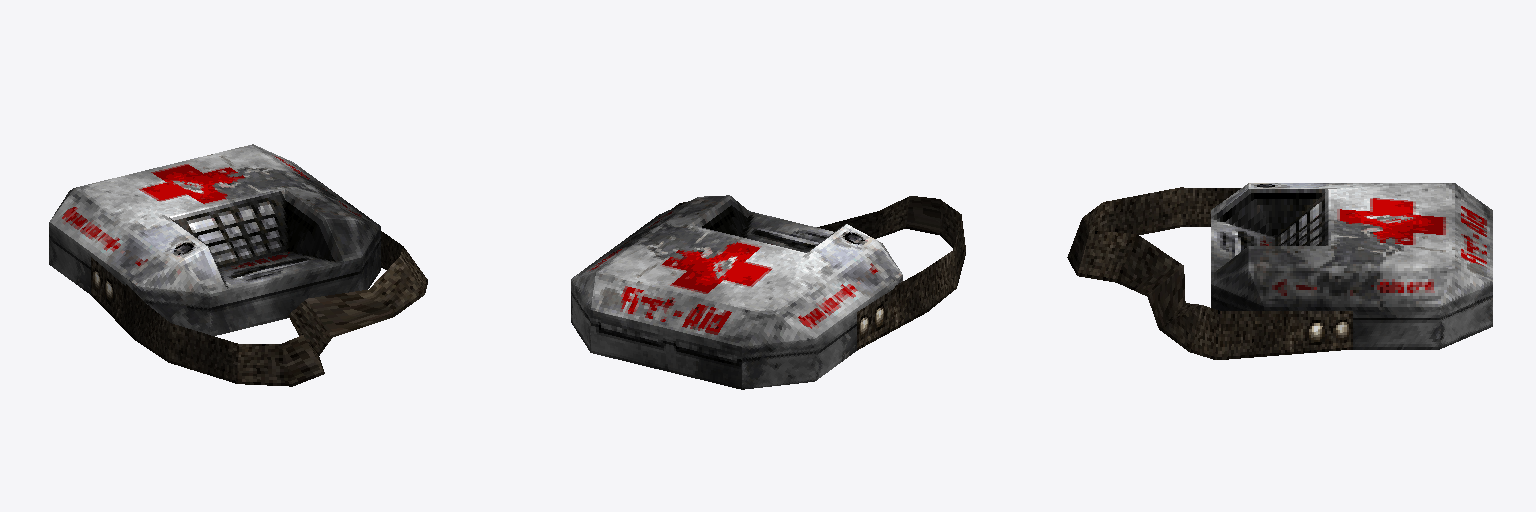
3 views of the same model, side by side, from view 1: azimuth 30°, elevation 25°; view 2: azimuth 150°, elevation 25°; view 3: azimuth 270°, elevation 25° (orthographic).
Visible parts, largest first — view 1: w_medkit; view 2: w_medkit; view 3: w_medkit.
Part boxes in pixels (bbox=[...]): w_medkit: bbox=[49, 144, 427, 386]; w_medkit: bbox=[571, 195, 965, 389]; w_medkit: bbox=[1067, 183, 1492, 359].
Bounding box in the file's own units: 26.44 × 6.53 × 34.63.
Materials: 2 (2 with a texture image).